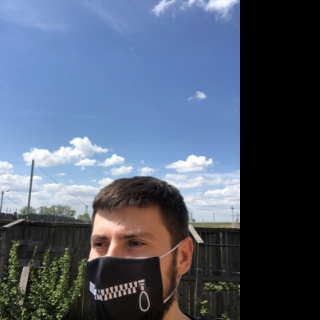with_mask: (85, 221, 172, 320)
